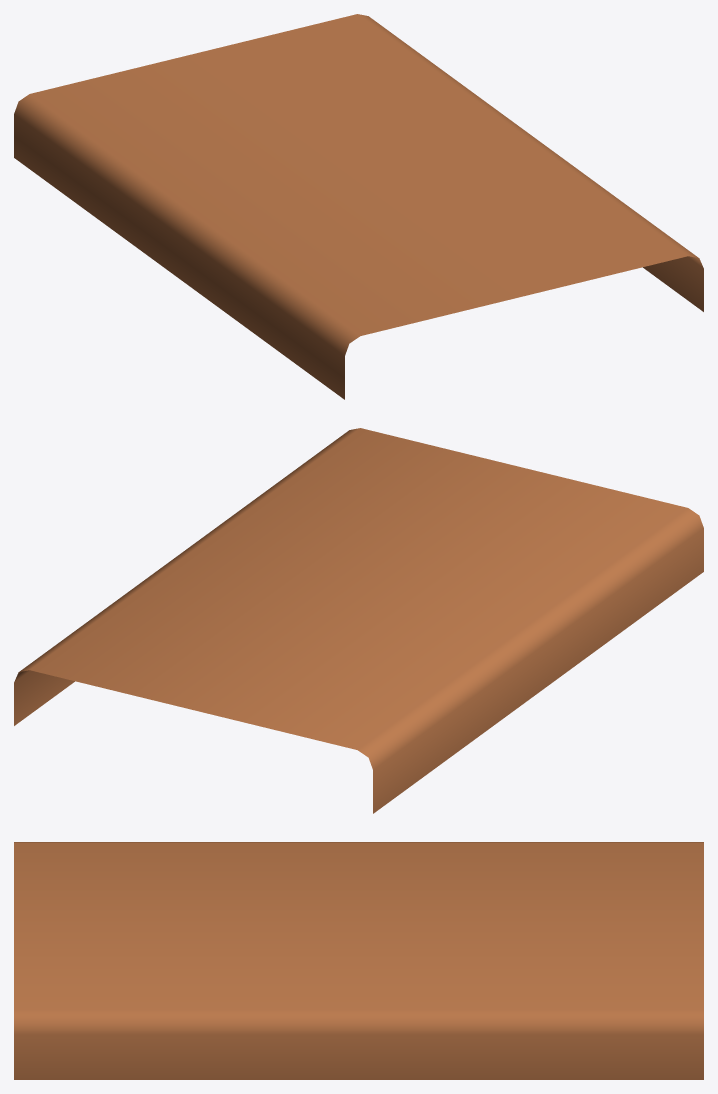
The model's file is road_02_straight.fbx.
3 views of the same model, one above another, from view 1: azimuth 30°, elevation 25°; view 2: azimuth 150°, elevation 25°; view 3: azimuth 270°, elevation 25° (orthographic). The views are drawn at different scales.
Visible parts, largest first — view 1: road_02_straight; view 2: road_02_straight; view 3: road_02_straight.
Part boxes in pixels (left/top/right/bottom): road_02_straight: left=14, top=14, right=703, bottom=399; road_02_straight: left=14, top=428, right=703, bottom=813; road_02_straight: left=14, top=842, right=703, bottom=1079.
Size of the model in its own units: 12.53 by 2 by 19.99.
